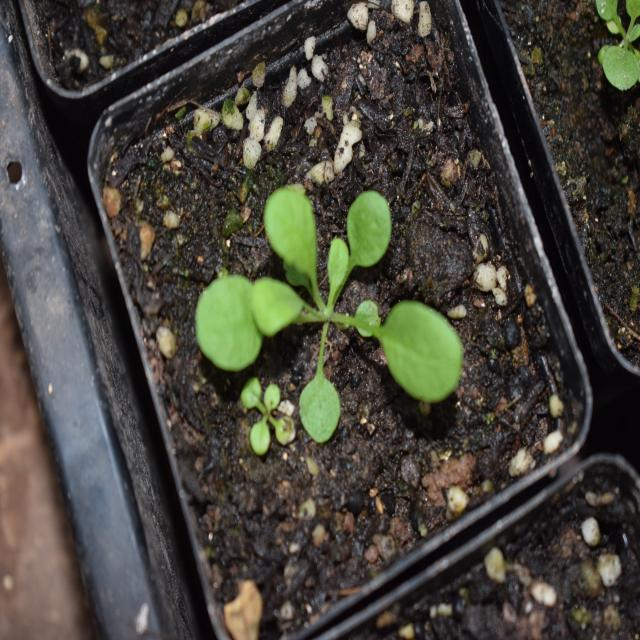Shepherd_Purse: (195, 184, 465, 446)
